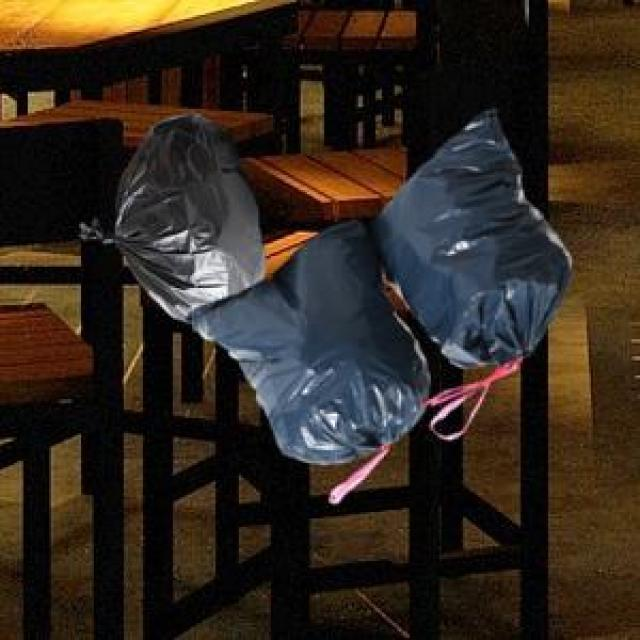Trashbag: (208, 254, 431, 474), (381, 138, 578, 369), (81, 109, 265, 295)
